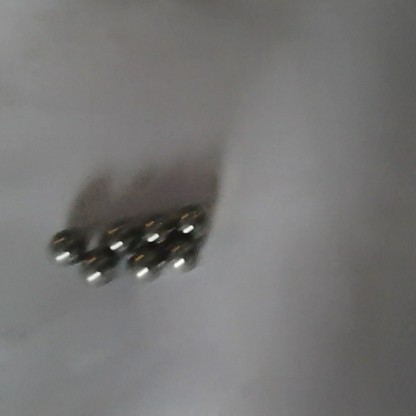ironball: (42, 222, 87, 265), (79, 249, 117, 289), (138, 209, 178, 246), (98, 218, 135, 257), (128, 247, 162, 287), (174, 205, 212, 239), (164, 239, 198, 274)
